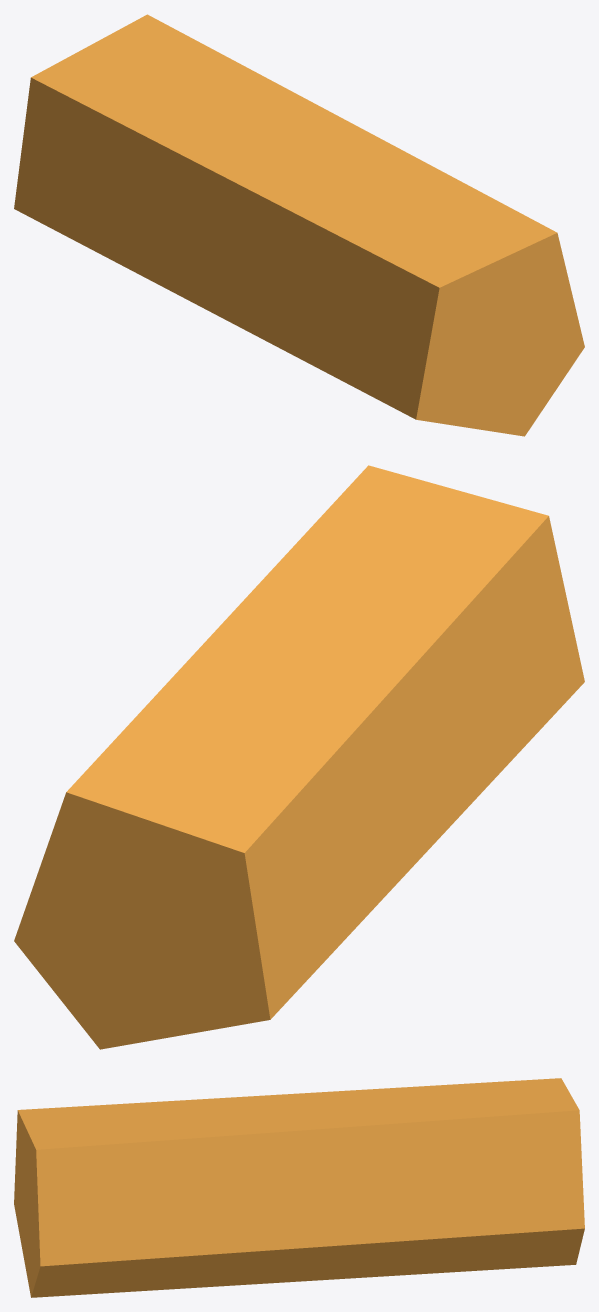
The picture shows the model from 3 angles, top to bottom: view 1: azimuth 30°, elevation 25°; view 2: azimuth 150°, elevation 25°; view 3: azimuth 270°, elevation 25°; orthographic projection. The views are drawn at different scales.
Parts seen in each view (by area): view 1: Cylinder.002; view 2: Cylinder.002; view 3: Cylinder.002.
Boxes of the visible parts, bbox=[...] form: Cylinder.002: bbox=[14, 14, 584, 436]; Cylinder.002: bbox=[14, 465, 584, 1049]; Cylinder.002: bbox=[14, 1078, 584, 1297].
Size of the model in its own units: 0.2649 by 0.1889 by 0.5886.
